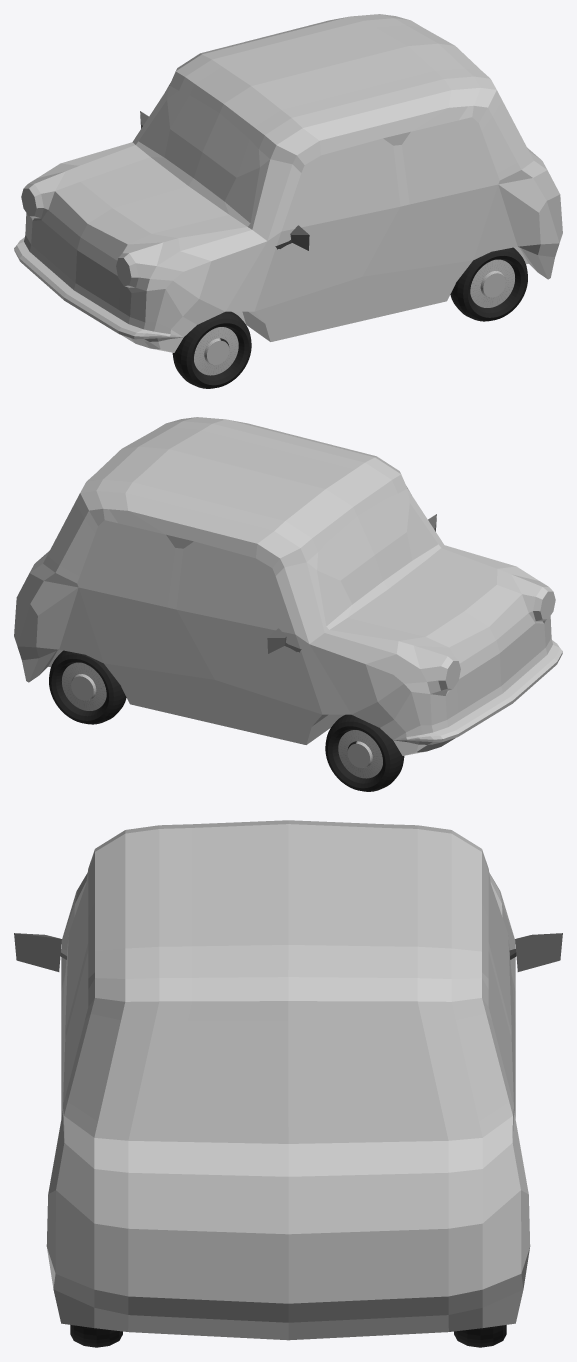
Rendered from car.obj.
3 views of the same model, one above another, from view 1: azimuth 30°, elevation 25°; view 2: azimuth 150°, elevation 25°; view 3: azimuth 270°, elevation 25° (orthographic). The views are drawn at different scales.
Visible parts, largest first — view 1: Car_body_Cube.001, Wheel_Torus, Wheel_2_Torus.001, Wing_mirrors_Cube.003; view 2: Car_body_Cube.001, Wheel_Torus, Wheel_2_Torus.001, Wing_mirrors_Cube.003; view 3: Car_body_Cube.001, Wing_mirrors_Cube.003, Wheel_2_Torus.001.
Part boxes in pixels (<box>): Car_body_Cube.001: <box>14,14,562,352</box>; Wheel_Torus: <box>172,311,251,388</box>; Wheel_2_Torus.001: <box>450,247,527,321</box>; Wing_mirrors_Cube.003: <box>140,111,309,250</box>; Car_body_Cube.001: <box>14,417,562,755</box>; Wheel_Torus: <box>325,714,404,791</box>; Wheel_2_Torus.001: <box>49,650,126,724</box>; Wing_mirrors_Cube.003: <box>267,514,436,653</box>; Car_body_Cube.001: <box>46,820,530,1340</box>; Wing_mirrors_Cube.003: <box>14,933,562,971</box>; Wheel_2_Torus.001: <box>70,1325,506,1347</box>.
Size of the model in its own units: 8.8 by 4.37 by 5.72.
